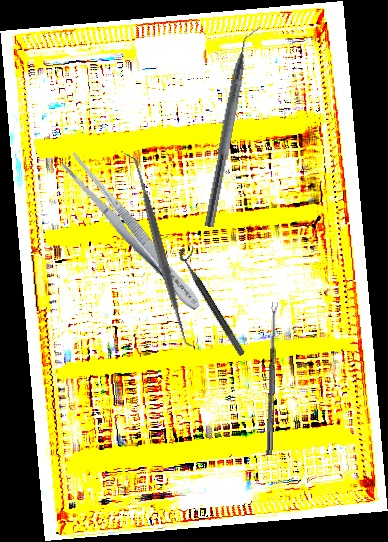Chopper: (203, 22, 265, 231)
Dressing Forceps: (58, 150, 207, 316)
Fixation Ring: (175, 243, 255, 357)
Spatula Surgical: (122, 148, 197, 352)
Surgical Spoon: (266, 301, 279, 456)
